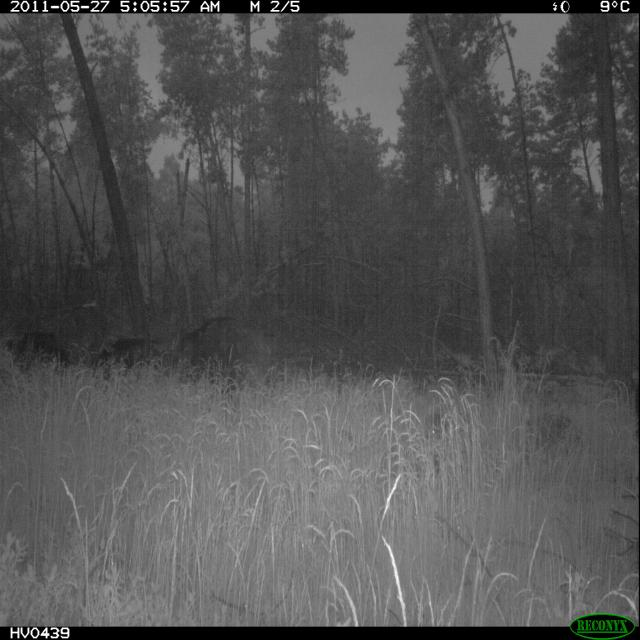boar: (160, 295, 291, 421)
